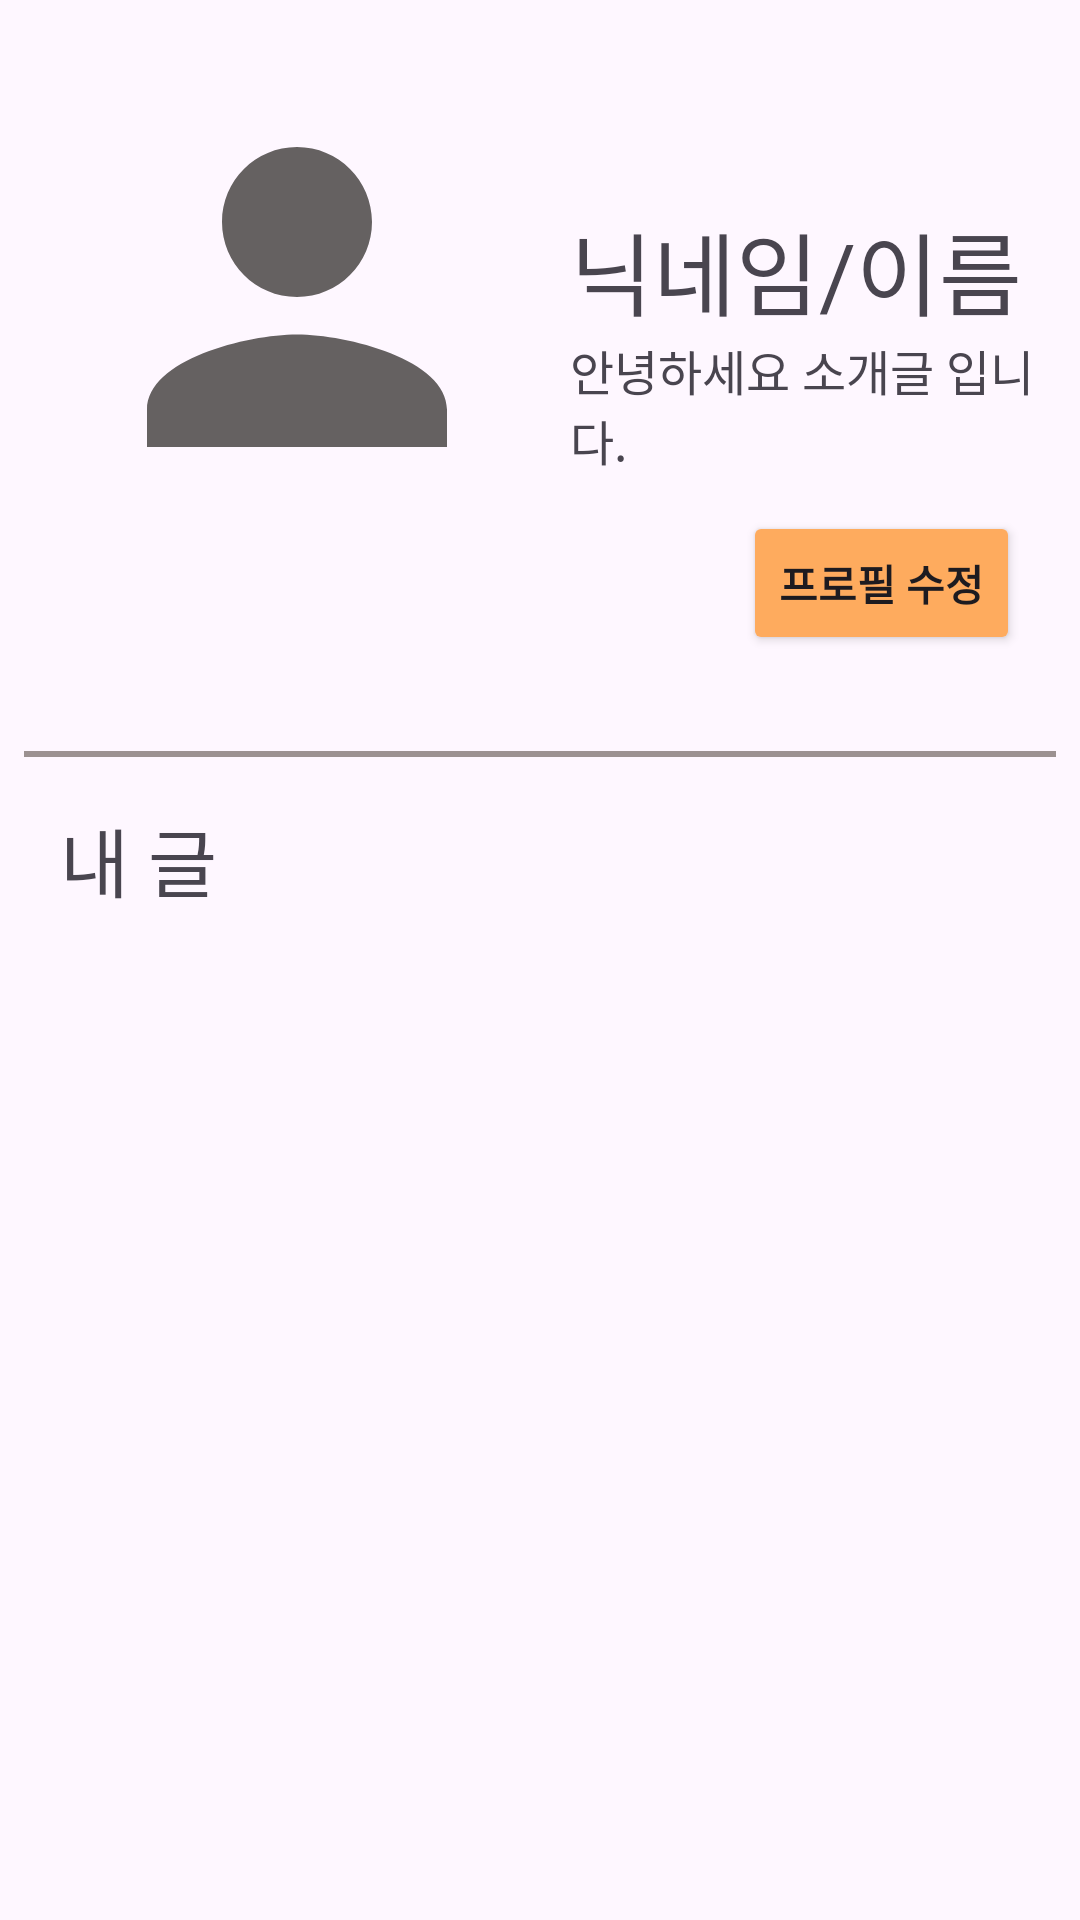

Icon bounding boxes for this 1080×1920 phone screenshot, format (left=x1, top=y1, right=x2, bottom=y2):
person: (left=147, top=147, right=447, bottom=447)
